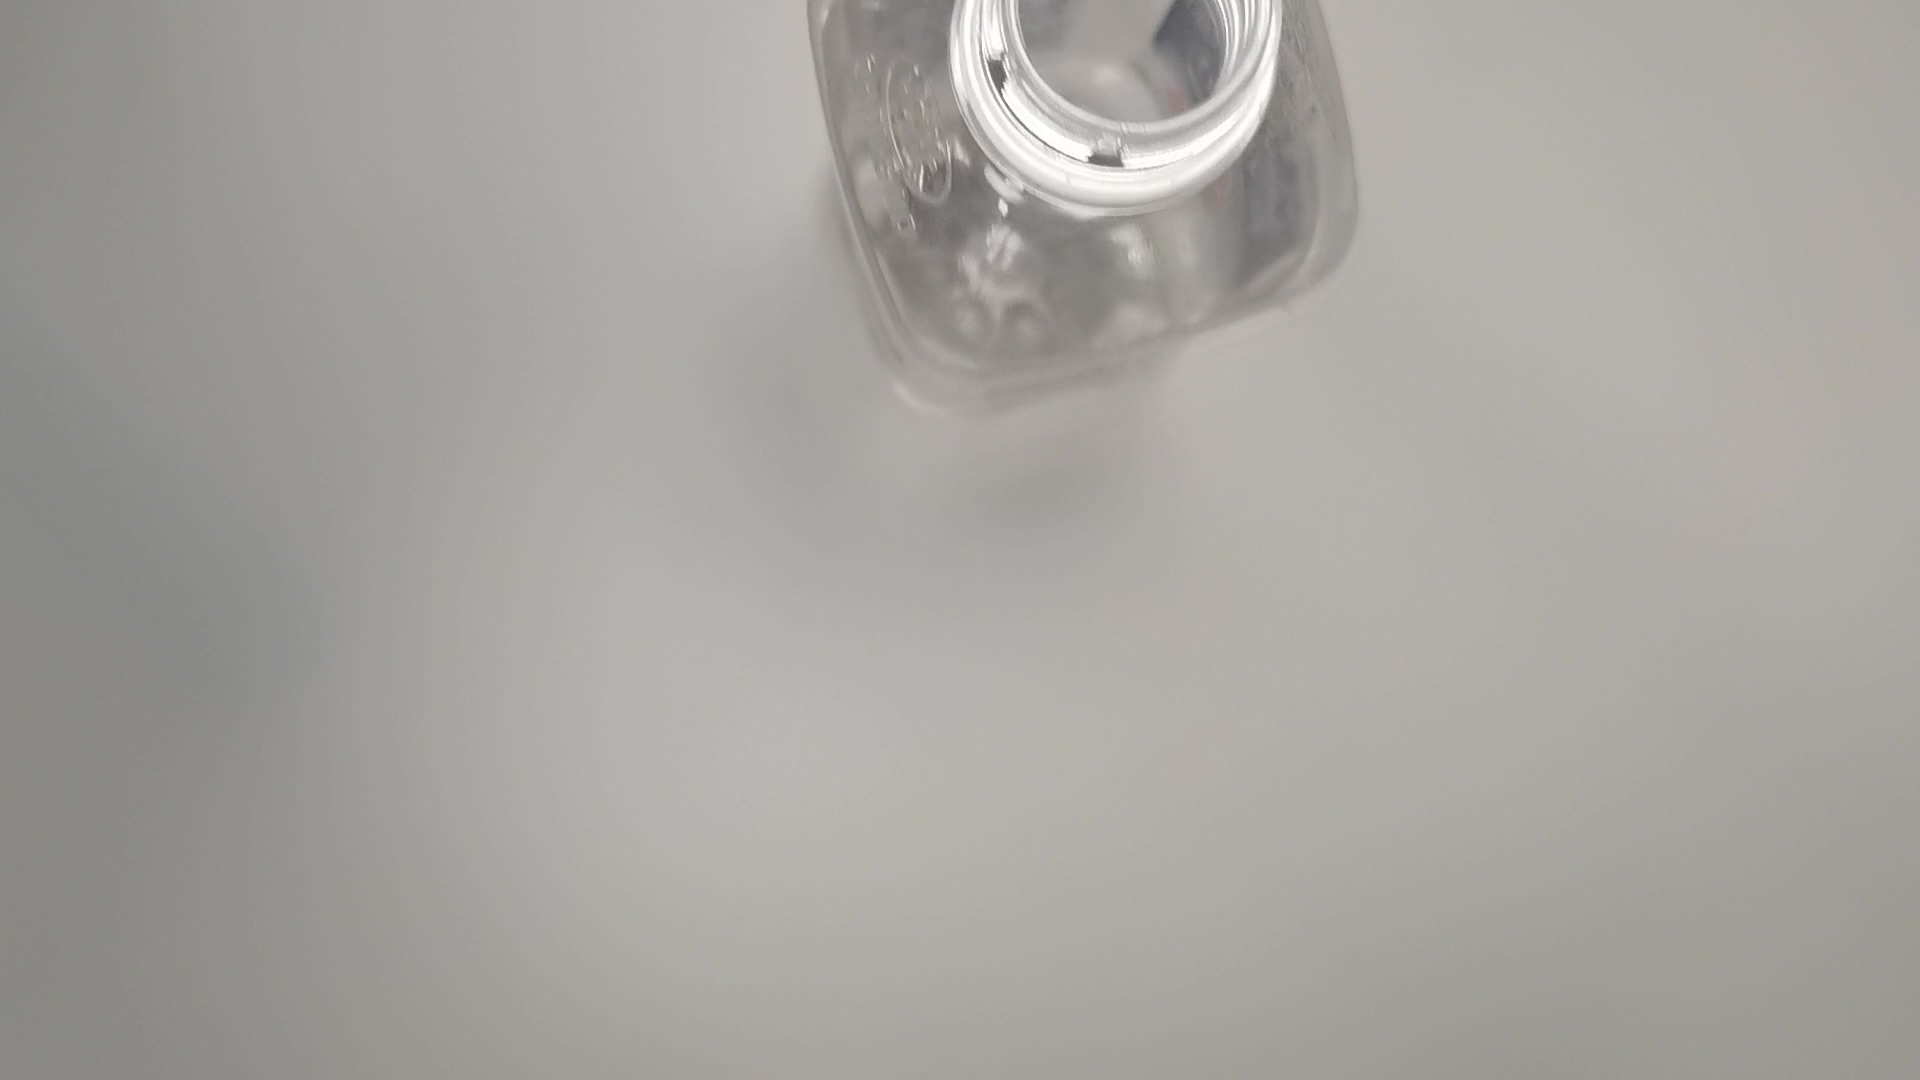bottle: (799, 1, 1377, 430)
